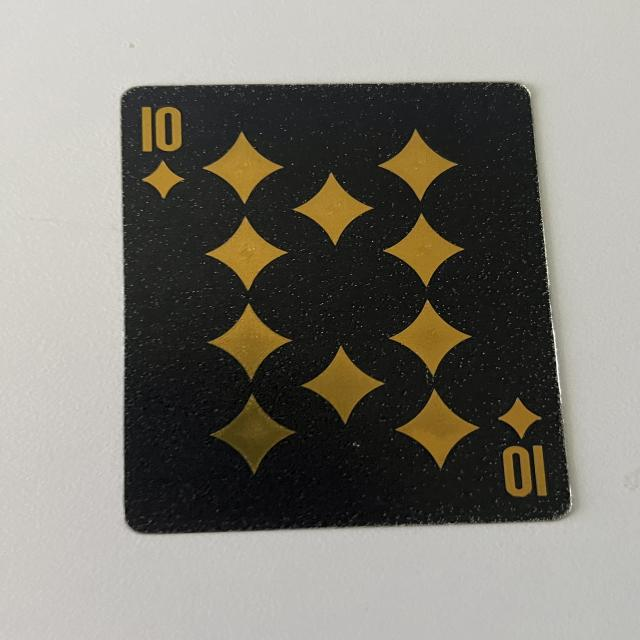10D: (486, 391, 560, 504), (129, 103, 197, 201)
